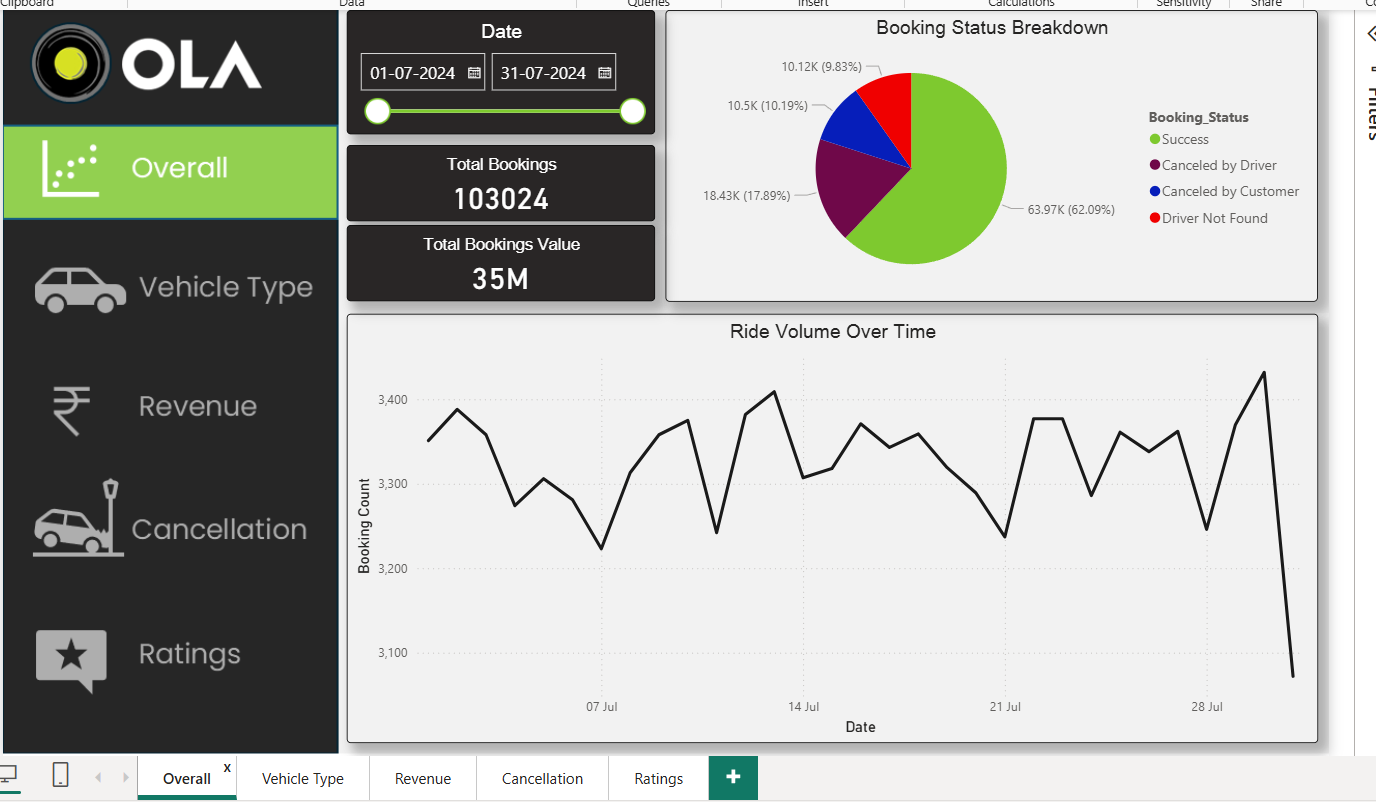

Layout of this report page (visuals, bound fields, positions):
{"tool":"powerbi","page":{"name":"Overall","canvas":[1280,720],"ordinal":0},"visuals":[{"type":"actionButton","box":[0,219.6,323.3,96.5],"z":0},{"type":"actionButton","box":[0,326.9,323.3,102.5],"z":1000},{"type":"actionButton","box":[0,444,323.3,102.5],"z":2000},{"type":"actionButton","box":[0,569.4,323.3,102.5],"z":3000},{"type":"lineChart","title":"Ride Volume Over Time","fields":{"Y":["CountNonNull(Sheet1 (2).Booking_ID)"],"Category":["Sheet1 (2).Date"]},"box":[332,293.3,937.3,414.7],"z":4000},{"type":"pieChart","title":"Booking Status Breakdown","fields":{"Category":["Sheet1 (2).Booking_Status"],"Y":["CountNonNull(Sheet1 (2).Booking_Status)"]},"box":[640,0,629.3,281.3],"z":5000},{"type":"slicer","title":"Date","fields":{"Values":["Sheet1 (2).Date"]},"box":[332,0,297.3,120],"z":6000},{"type":"card","title":"Total Bookings","fields":{"Values":["CountNonNull(Sheet1 (2).Booking_ID)"]},"box":[332,130.7,297.3,73.3],"z":7000},{"type":"card","title":"Total Bookings Value","fields":{"Values":["Sum(Sheet1 (2).Booking_Value)"]},"box":[332,208,297.3,73.3],"z":8000}]}

Visuals, with their boxes in screenshot pixels (x1, y1, x2, y2):
actionButton: left=0, top=233, right=332, bottom=335
actionButton: left=0, top=347, right=332, bottom=455
actionButton: left=0, top=471, right=332, bottom=579
actionButton: left=0, top=604, right=332, bottom=712
"Ride Volume Over Time" lineChart: left=341, top=311, right=1335, bottom=751
"Booking Status Breakdown" pieChart: left=668, top=0, right=1335, bottom=298
"Date" slicer: left=341, top=0, right=656, bottom=127
"Total Bookings" card: left=341, top=139, right=656, bottom=216
"Total Bookings Value" card: left=341, top=221, right=656, bottom=298
